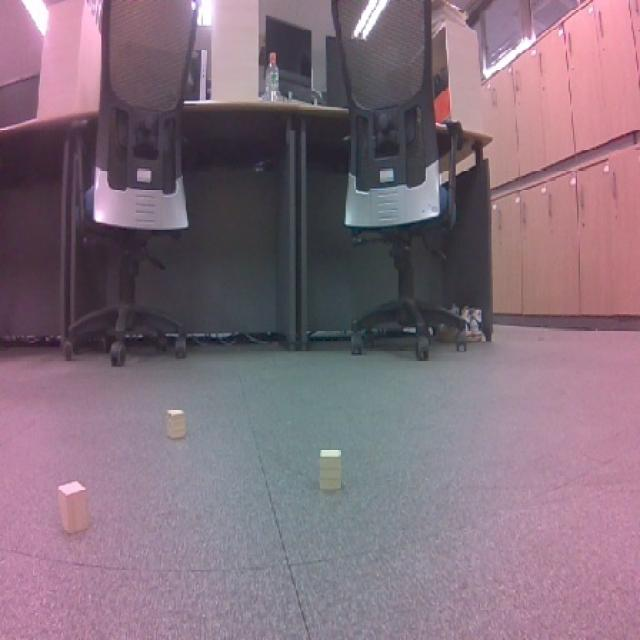obstacle: (46, 474, 106, 540), (309, 443, 355, 498), (156, 401, 193, 451)
